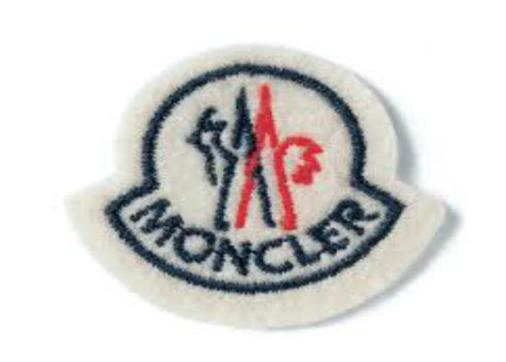MONCLER: (188, 79, 326, 238)
